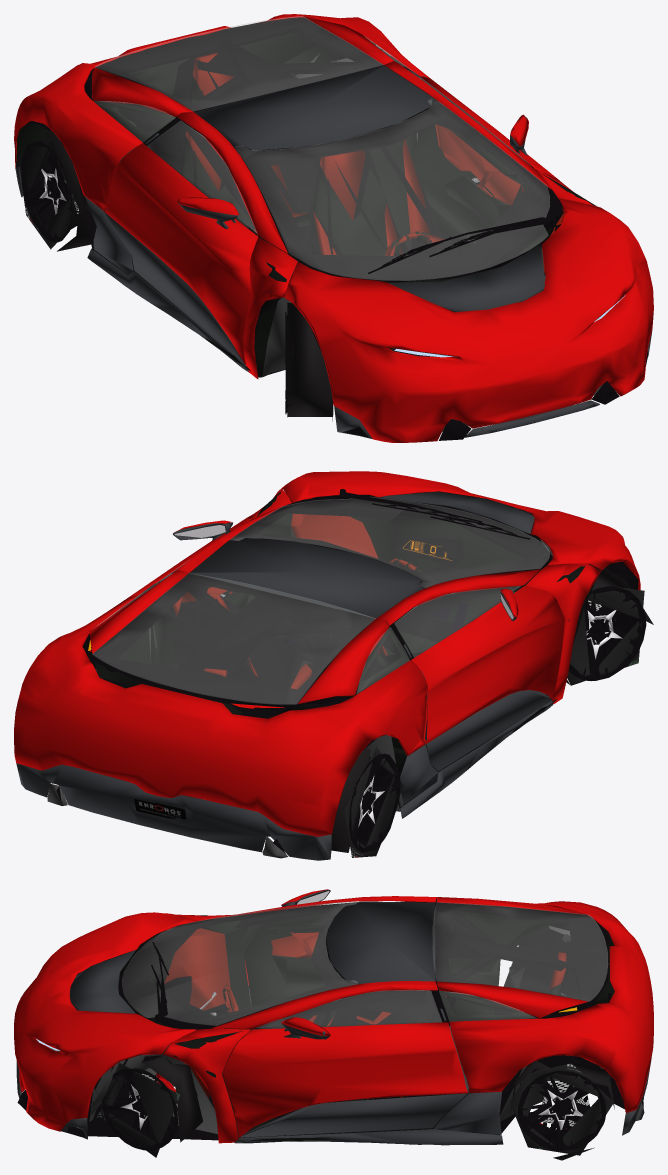
Rendered from car-concept-far.glb.
The picture shows the model from 3 angles, top to bottom: view 1: azimuth 30°, elevation 25°; view 2: azimuth 150°, elevation 25°; view 3: azimuth 270°, elevation 25°; orthographic projection. The views are drawn at different scales.
Parts seen in each view (by area): view 1: BodyRearPanelsColor1, BodyWindshield, BodyWindshieldGasket, BodyRoofPanel, InteriorDashMid, InteriorSeatsColor2, InteriorDashSides, object 21, WheelFrontLRim, InteriorMid, BodyUnderside; view 2: BodyRearPanelsColor1, BodyWindshield, BodyWindshieldGasket, BodyRoofPanel, InteriorDashMid, object 21, WheelFrontLRim, InteriorDashSides, InteriorMid, InteriorSteeringDash, BodyUnderside, InteriorSeatsColor2 (+1 smaller); view 3: BodyRearPanelsColor1, BodyWindshield, BodyWindshieldGasket, BodyRoofPanel, InteriorDashMid, object 21, WheelFrontLRim, InteriorDashSides, InteriorMid, BodyUnderside, InteriorSteeringDash, WheelFrontLBrakeDisc.
Boxes of the visible parts, bbox=[...] form: BodyRearPanelsColor1: bbox=[14, 14, 653, 442]; BodyWindshield: bbox=[94, 16, 549, 280]; BodyWindshieldGasket: bbox=[33, 17, 647, 440]; BodyRoofPanel: bbox=[15, 65, 652, 438]; InteriorDashMid: bbox=[16, 33, 554, 282]; InteriorSeatsColor2: bbox=[180, 77, 469, 255]; InteriorDashSides: bbox=[186, 52, 564, 350]; object 21: bbox=[18, 61, 616, 421]; WheelFrontLRim: bbox=[21, 141, 333, 415]; InteriorMid: bbox=[94, 173, 596, 376]; BodyUnderside: bbox=[19, 53, 604, 431]; BodyRearPanelsColor1: bbox=[14, 471, 640, 836]; BodyWindshield: bbox=[92, 497, 549, 704]; BodyWindshieldGasket: bbox=[18, 489, 638, 853]; BodyRoofPanel: bbox=[16, 491, 553, 860]; InteriorDashMid: bbox=[86, 501, 527, 749]; object 21: bbox=[52, 525, 653, 857]; WheelFrontLRim: bbox=[349, 586, 646, 852]; InteriorDashSides: bbox=[172, 495, 417, 689]; InteriorMid: bbox=[257, 492, 599, 810]; InteriorSteeringDash: bbox=[397, 537, 463, 566]; BodyUnderside: bbox=[47, 521, 615, 858]; InteriorSeatsColor2: bbox=[300, 619, 437, 667]; BodyRearPanelsColor1: bbox=[14, 889, 653, 1143]; BodyWindshield: bbox=[122, 901, 607, 1028]; BodyWindshieldGasket: bbox=[17, 898, 643, 1140]; BodyRoofPanel: bbox=[16, 890, 651, 1145]; InteriorDashMid: bbox=[121, 909, 614, 1025]; object 21: bbox=[94, 930, 614, 1160]; WheelFrontLRim: bbox=[102, 959, 606, 1150]; InteriorDashSides: bbox=[164, 925, 566, 1099]; InteriorMid: bbox=[172, 914, 500, 1141]; BodyUnderside: bbox=[37, 925, 644, 1133]; InteriorSteeringDash: bbox=[158, 976, 191, 1003]; WheelFrontLBrakeDisc: bbox=[129, 1073, 589, 1129].
Size of the model in its own units: 2.52 by 1.15 by 4.35.
23 materials, 18 textured.
